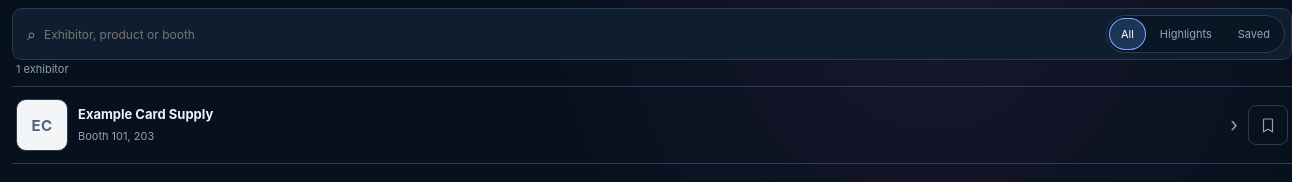
Test: Exhibitor directory › finds product names without promoting ordinary offers to highlights
Step 1. Type "monarch" into the search field → (567, 34), box [42,26,1092,42]
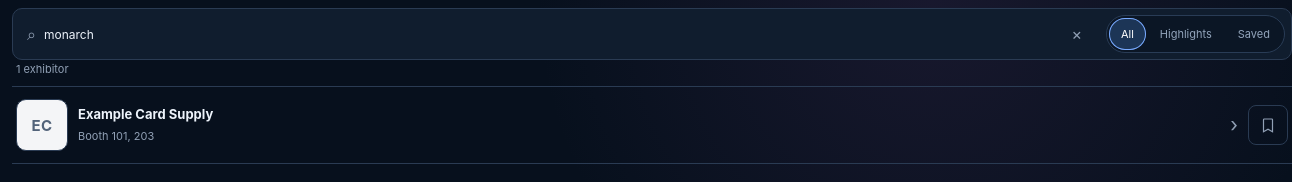
Expected: the text "Example Card Supply" is shown, [78,106,213,122]
Step 2. Click the button "Highlights" → (1186, 34), box [1148,18,1224,50]
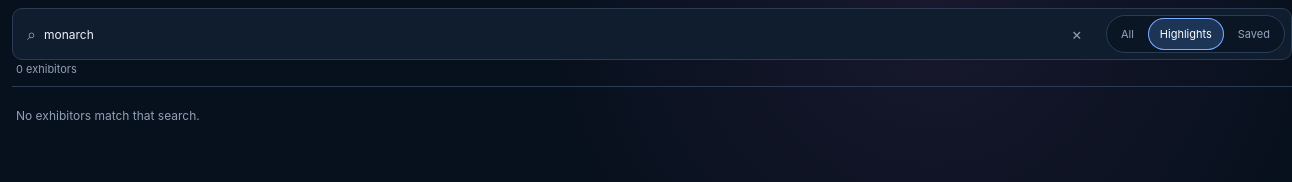
Expected: the button "Example Card Supply" is gone
